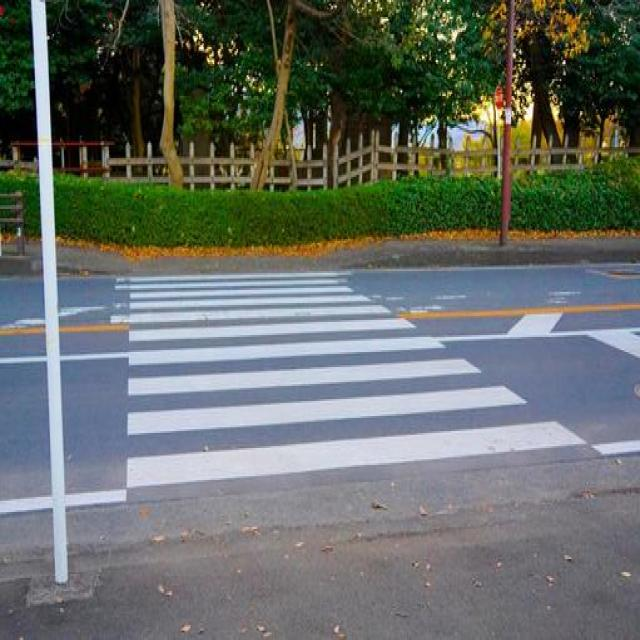crosswalk: (117, 258, 607, 538)
redlight: (492, 62, 509, 108)
